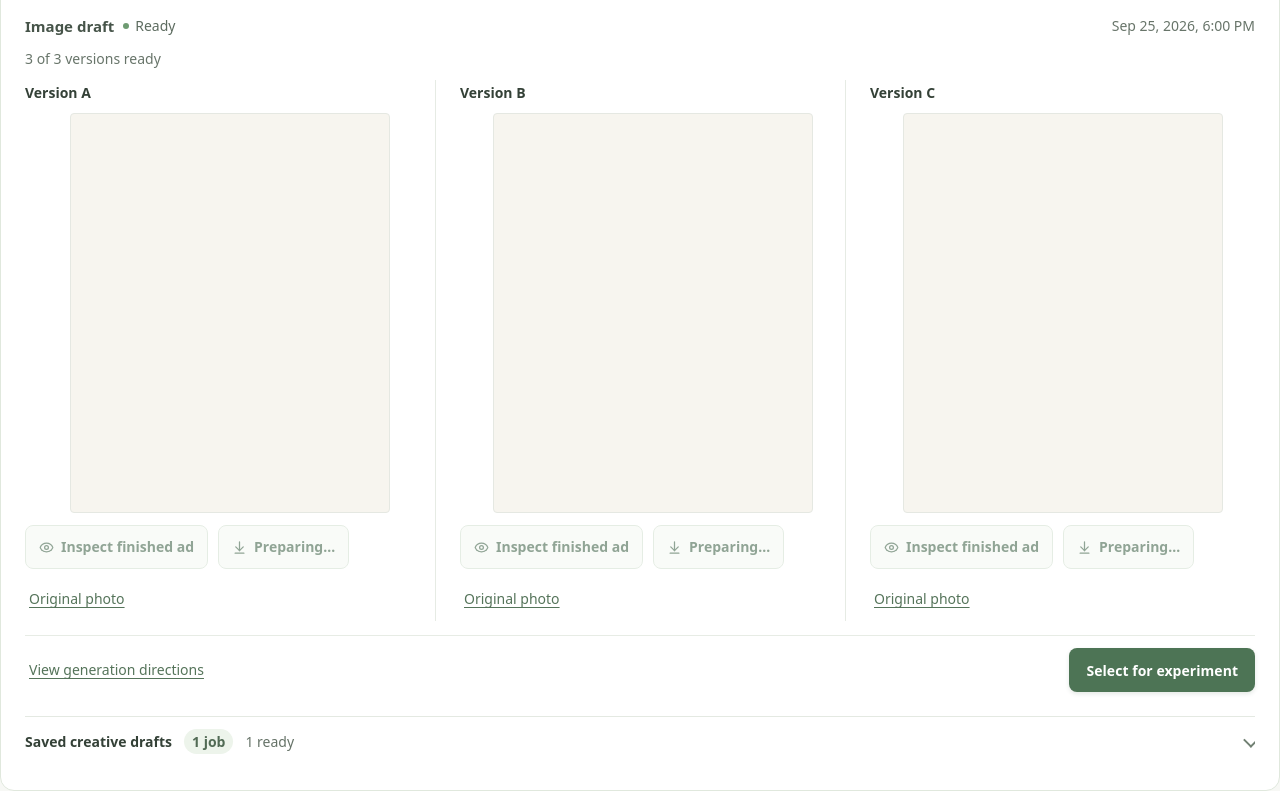
Test case: creative composer › navigates the clicked job’s ready A/B/C outputs in order and enforces gallery bounds
The image size is (1280, 791).
(page scrolled)
Click the button with aria-label "Inspect original photo for Version C" at (922, 599), box [870,577,974,621]
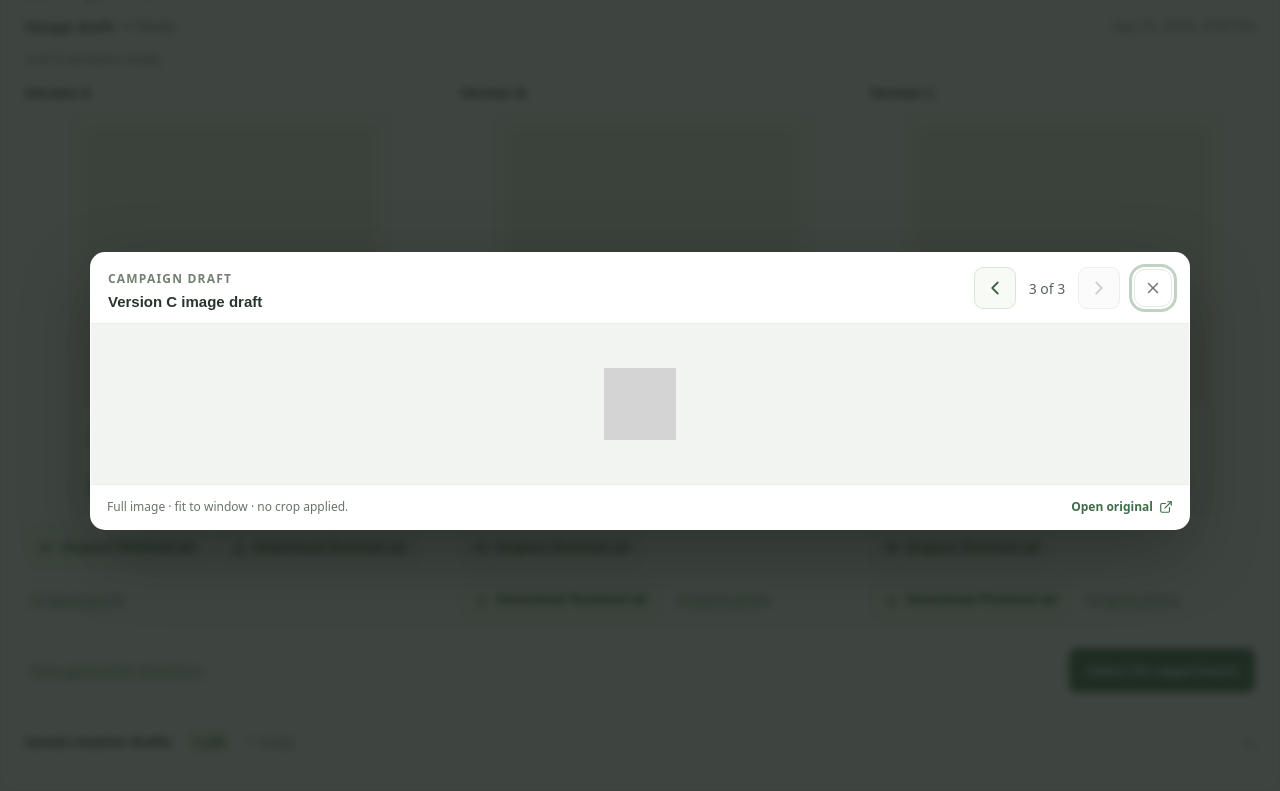
expect the text "3 of 3" is shown: met, box [1029,278,1065,298]
expect the button named "Previous version" is enabled: met
expect the button named "Next version" is disabled: met, box [1078,267,1120,309]
Click the button named "Previous version" at (995, 288), box [974,267,1016,309]
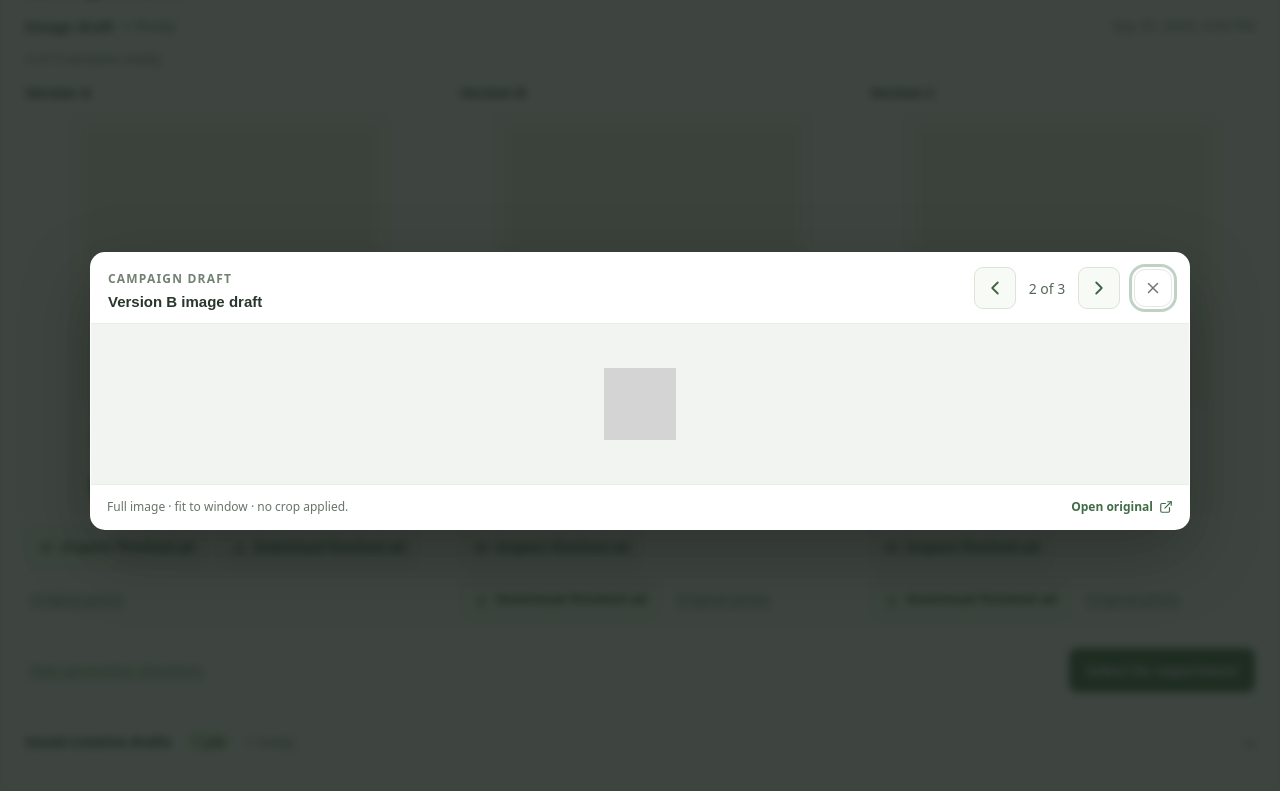
expect the heading "Version B image draft" is shown: met, box [108,293,262,310]
Press ArrowLeft in the dialog named "Version C image draft", box [90,252,1190,530]
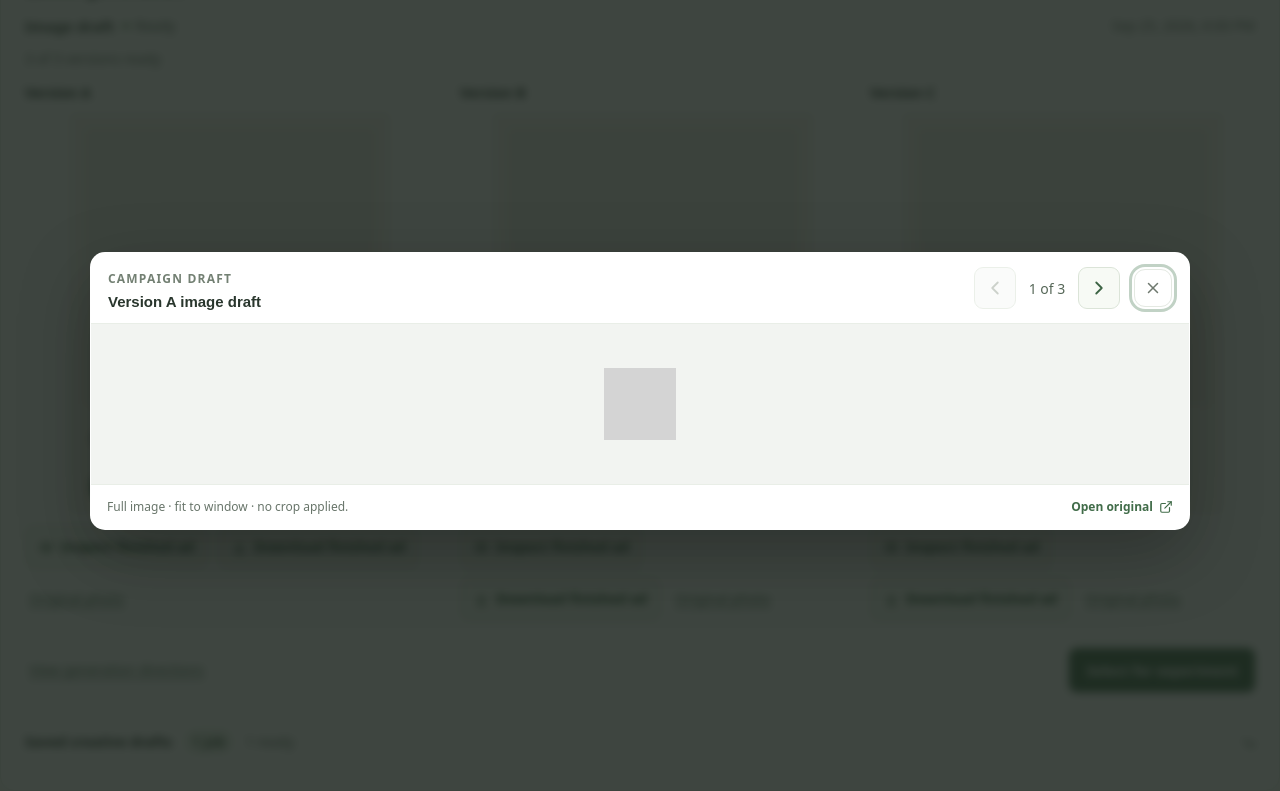
expect the heading "Version A image draft" is shown: met, box [108,293,261,310]
expect the button named "Previous version" is disabled: met, box [974,267,1016,309]
Click the button named "Next version" at (1099, 288), box [1078,267,1120,309]
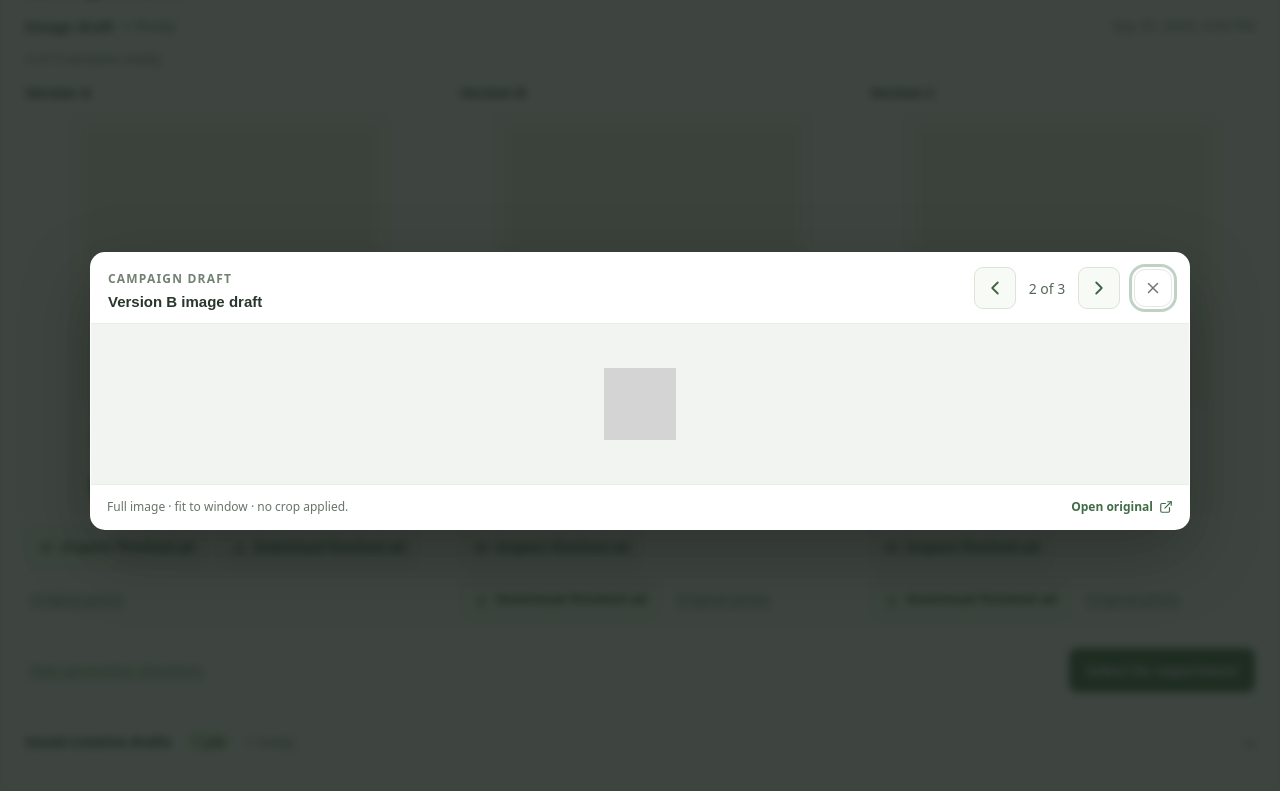
expect the heading "Version B image draft" is shown: met, box [108,293,262,310]
Click the button named "Next version" at (1099, 288), box [1078,267,1120,309]
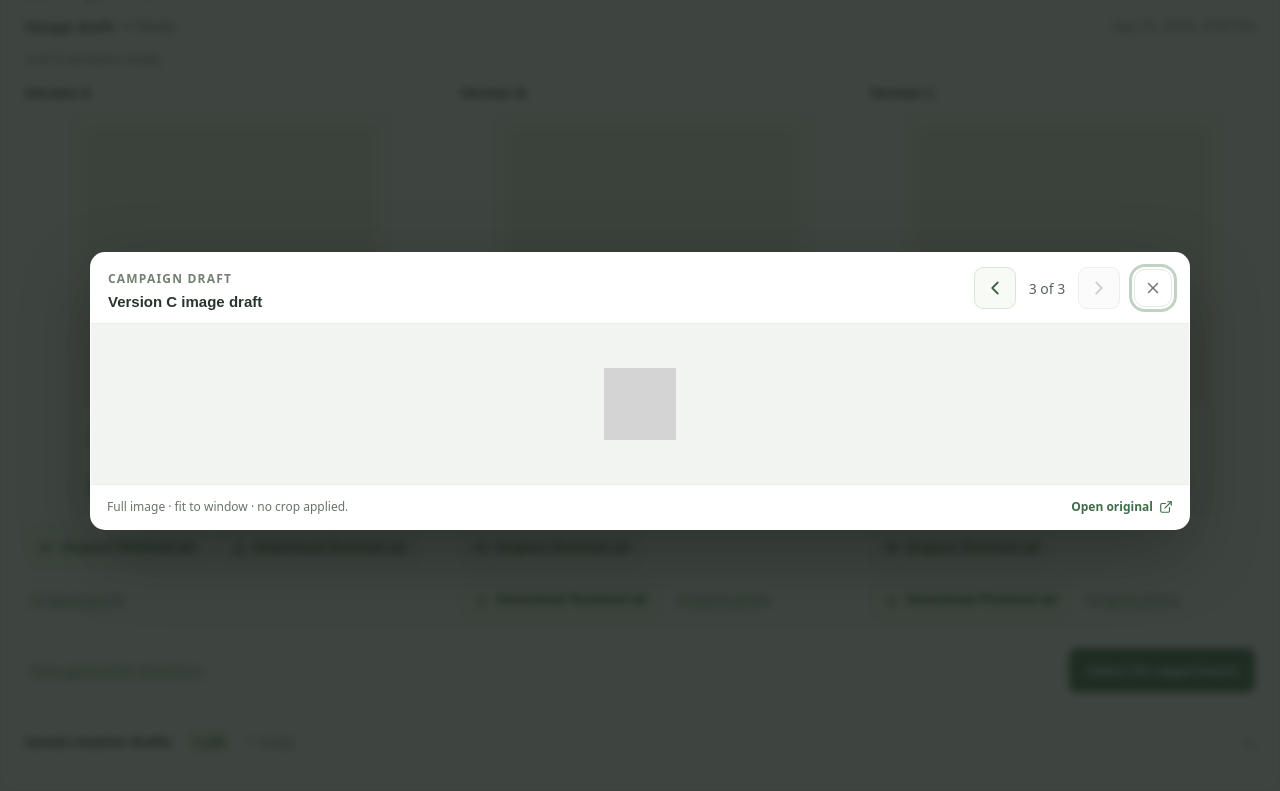
expect the heading "Version C image draft" is shown: met, box [108,293,262,310]
